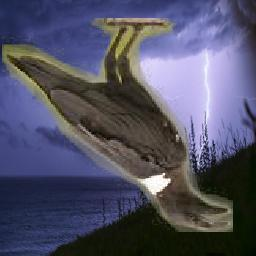Crow: (3, 18, 234, 232)
